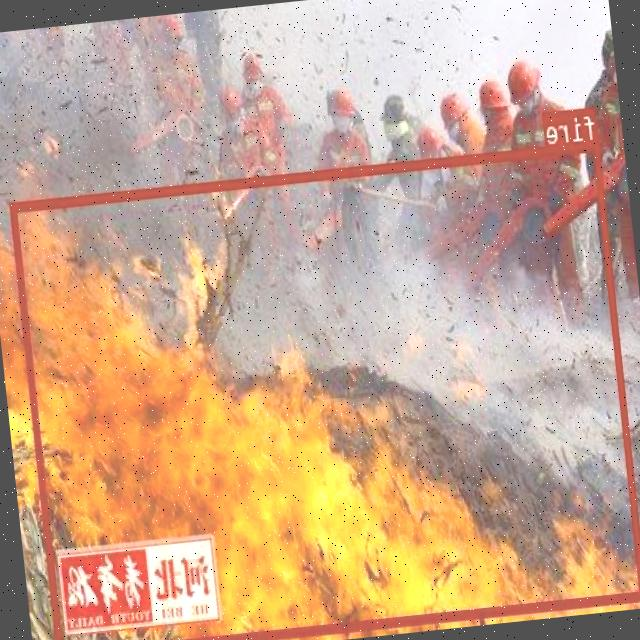fire: (10, 139, 640, 640)
